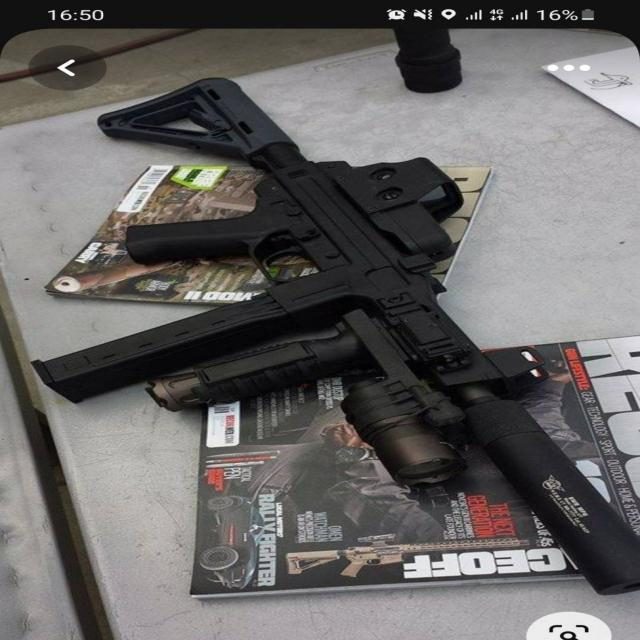m16: (72, 97, 571, 523)
